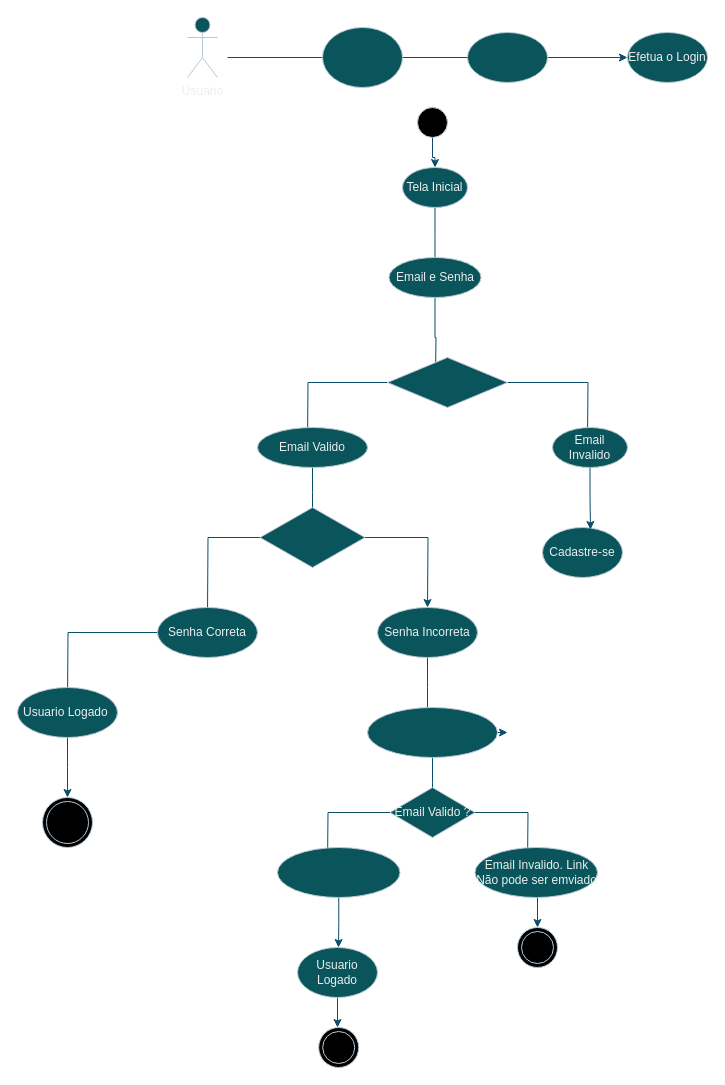
The diagram is 725 pixels wide and 1085 high, and some of its shapes have lost their labels. The centre of each missing label's shape, as x and y in pixels:
"A senha está correta ?" belongs at point (312, 537).
"Email ta certo ?" belongs at point (447, 382).
"Envie o Link de Recuperação de Senha" belongs at point (338, 872).
"Inserir Dados" belongs at point (362, 57).
"Link para inserir email de recupeção de senha" belongs at point (432, 732).
"Sistema verifica" belongs at point (507, 57).
